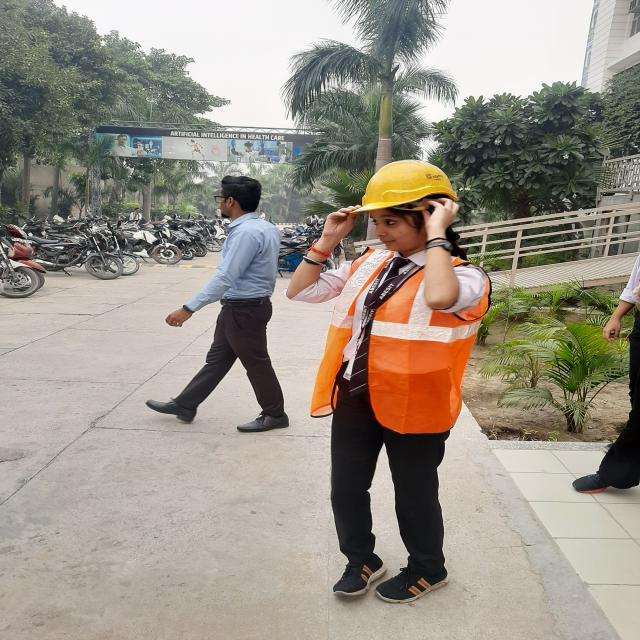safe: (300, 164, 478, 604)
unsafe: (163, 172, 296, 439)
